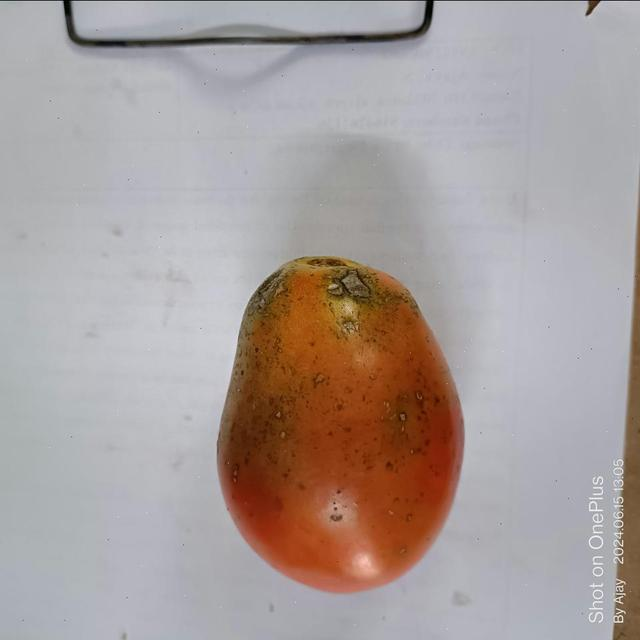Bacterial Spot Fruit: (20, 26, 235, 196)
